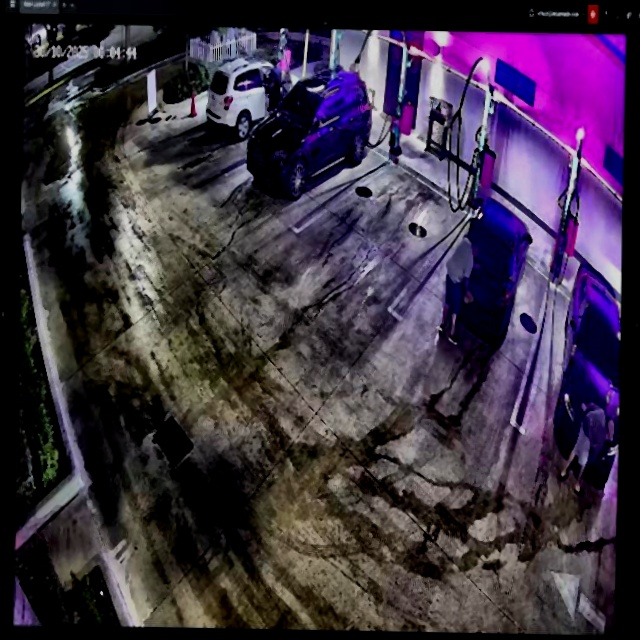Car: (246, 65, 372, 198), (450, 196, 533, 342)
